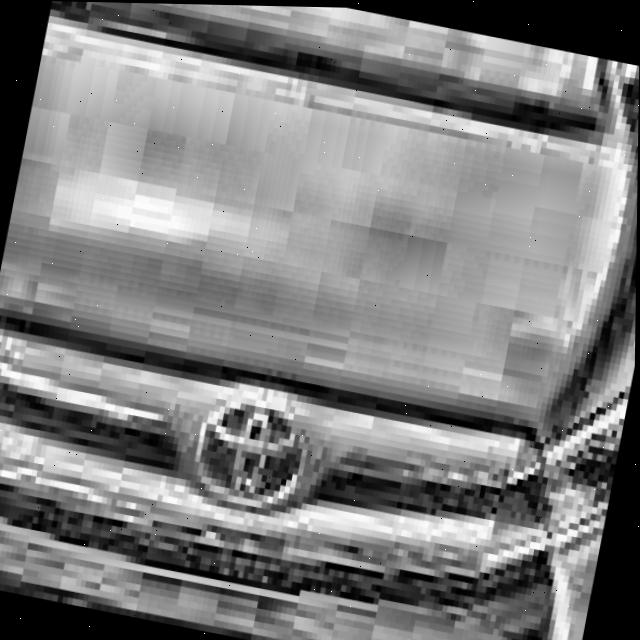light_vehicle: (0, 0, 640, 640), (539, 47, 640, 201)
